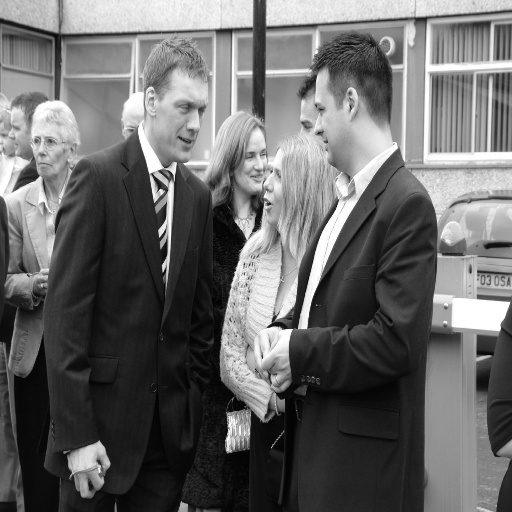hand: (58, 435, 113, 502), (259, 326, 291, 393), (252, 326, 281, 380), (33, 264, 49, 297), (276, 396, 287, 417)
